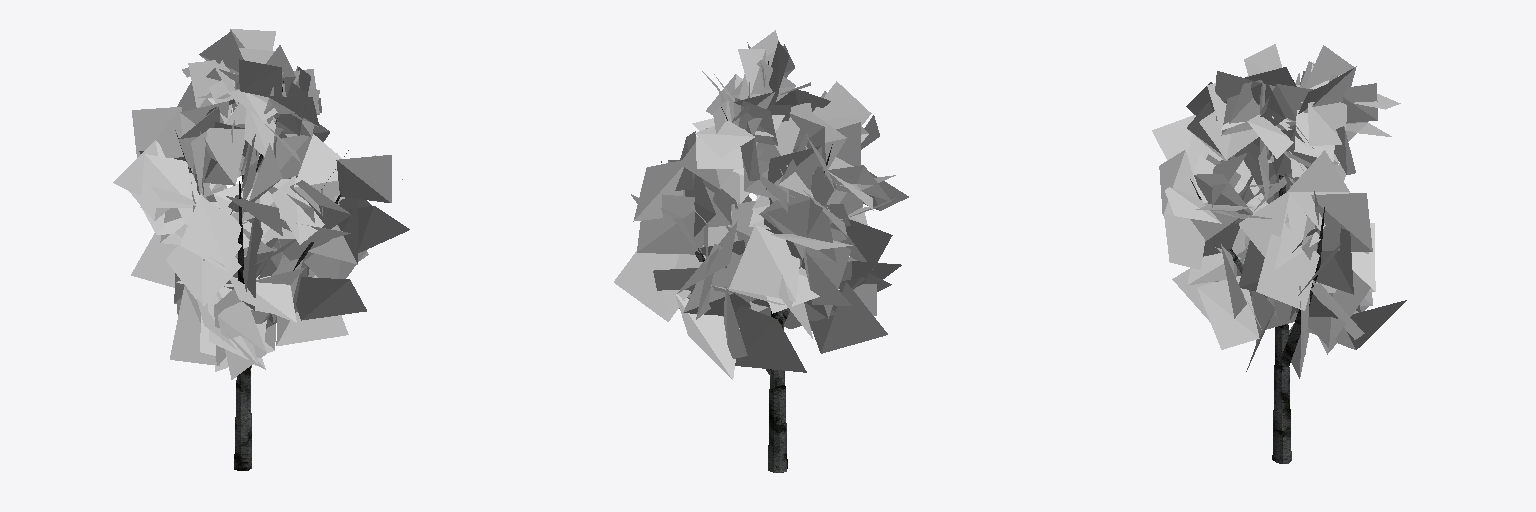
The picture shows the model from 3 angles: view 1: azimuth 30°, elevation 25°; view 2: azimuth 150°, elevation 25°; view 3: azimuth 270°, elevation 25°; orthographic projection.
Visible parts, largest first — view 1: birch; view 2: birch; view 3: birch.
Part boxes in pixels (left/top/right/bottom): birch: left=113, top=29, right=409, bottom=470; birch: left=614, top=30, right=908, bottom=472; birch: left=1152, top=44, right=1406, bottom=463.
Bounding box in the file's own units: 11.82 × 19.05 × 10.58.
2 materials, 1 textured.